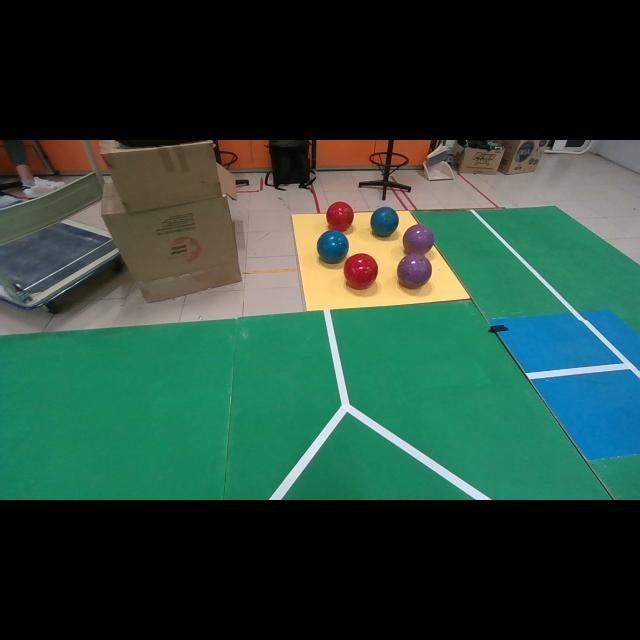B: (318, 230, 349, 263), (370, 206, 399, 237)
P: (398, 254, 432, 289), (402, 225, 434, 254)
R: (344, 254, 378, 290), (326, 201, 354, 231)
